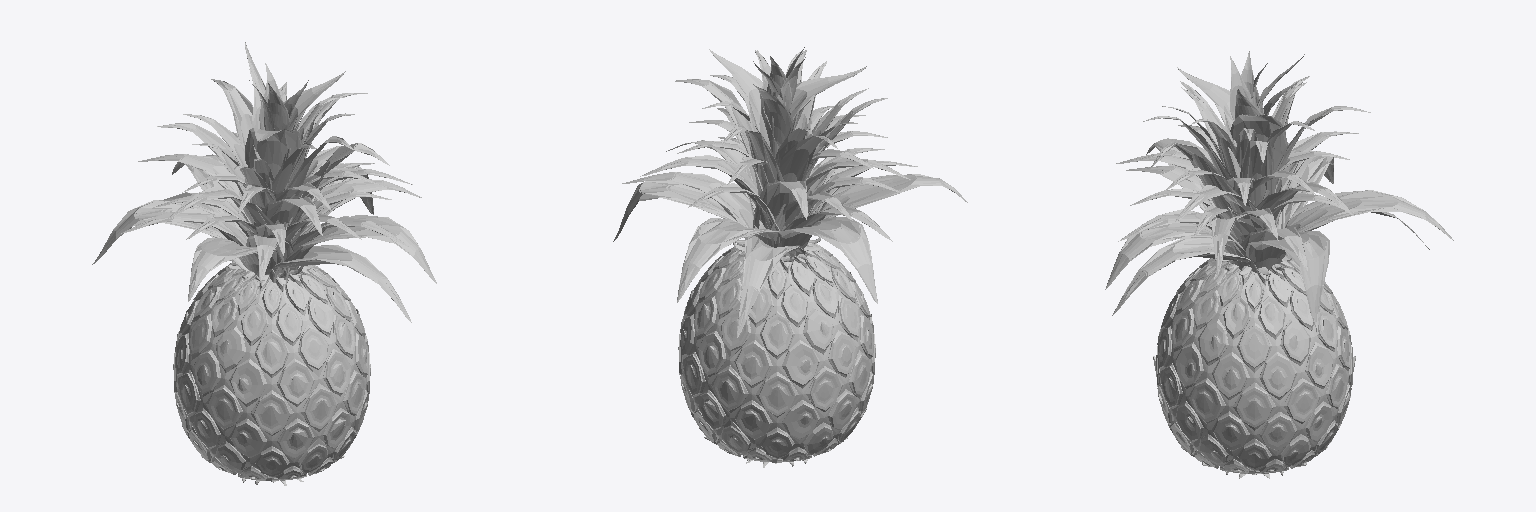
The model's file is pineapple.obj.
3 renders of one model, left to right at view 1: azimuth 30°, elevation 25°; view 2: azimuth 150°, elevation 25°; view 3: azimuth 270°, elevation 25°, orthographic.
Visible parts, largest first — view 1: pineapple; view 2: pineapple; view 3: pineapple.
Part boxes in pixels (bbox=[...]): pineapple: bbox=[92, 42, 436, 485]; pineapple: bbox=[613, 47, 967, 467]; pineapple: bbox=[1105, 51, 1453, 478].
Bounding box in the file's own units: 23.29 × 33.19 × 25.72.